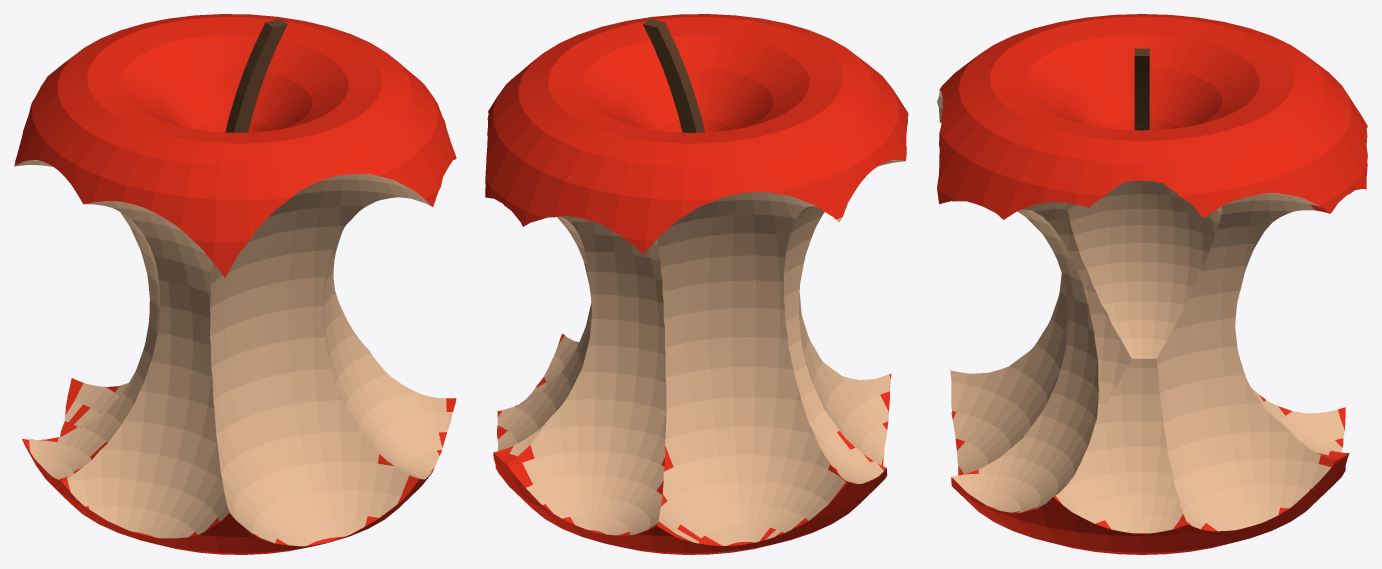
Rendered from Apple.fbx.
The picture shows the model from 3 angles, left to right: view 1: azimuth 30°, elevation 25°; view 2: azimuth 150°, elevation 25°; view 3: azimuth 270°, elevation 25°; orthographic projection.
Parts seen in each view (by area): view 1: Sphere, Cube; view 2: Sphere, Cube; view 3: Sphere, Cube.
Part boxes in pixels (x1,y1,x2,y2): Sphere: (14,14,456,554); Cube: (225,19,287,132); Sphere: (485,14,908,554); Cube: (643,19,704,132); Sphere: (937,14,1367,554); Cube: (1134,48,1149,130).
Size of the model in its own units: 129 by 157 by 133.
